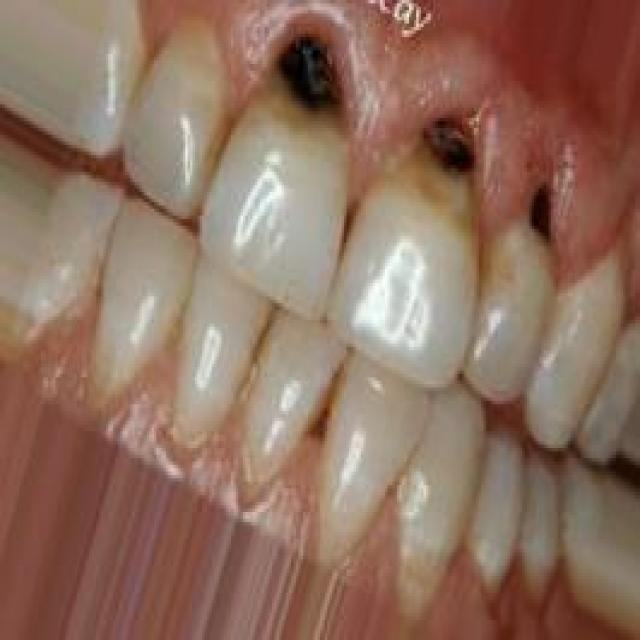caries: (252, 14, 369, 152), (390, 93, 491, 232), (514, 175, 582, 278)
